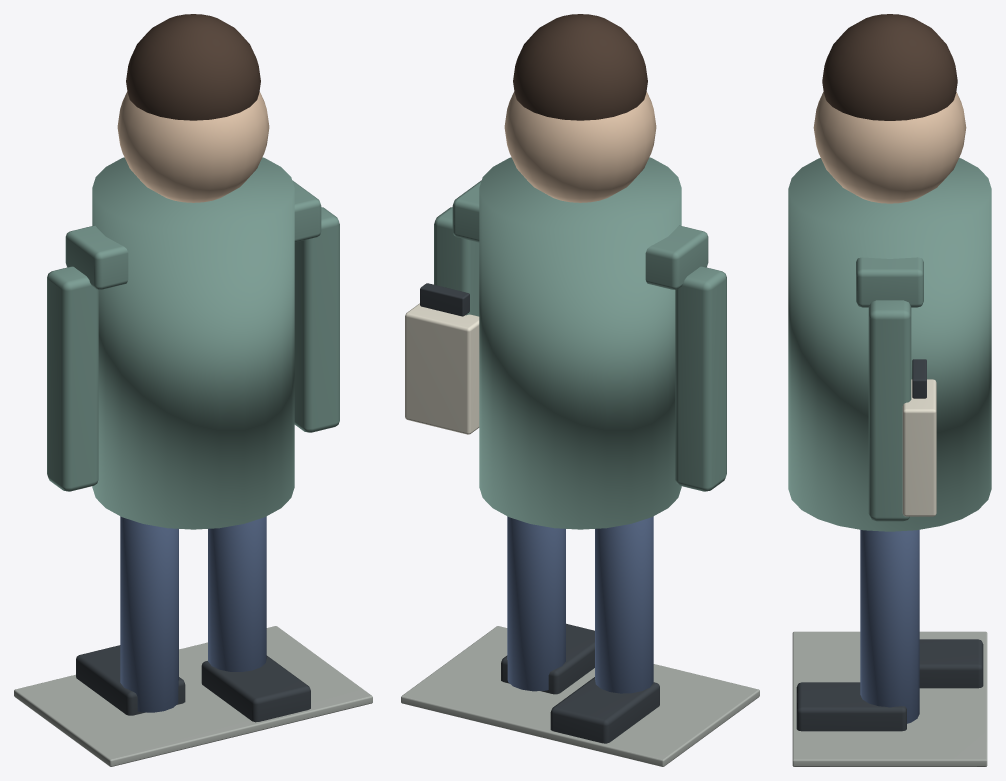
Rendered from customer_placeholder.glb.
3 views of the same model, side by side, from view 1: azimuth 30°, elevation 25°; view 2: azimuth 150°, elevation 25°; view 3: azimuth 270°, elevation 25° (orthographic).
Parts seen in each view (by area): view 1: customer_placeholder_torso, customer_entry_shadow, customer_hair_cap, customer_placeholder_head, customer_left_arm, customer_left_leg, customer_right_arm, customer_right_leg, customer_right_shoe, customer_shoulder_line, customer_left_shoe; view 2: customer_placeholder_torso, customer_entry_shadow, customer_hair_cap, customer_placeholder_head, customer_left_arm, customer_left_leg, customer_right_leg, customer_carry_bag_hint, customer_left_shoe, customer_shoulder_line, customer_right_arm, customer_right_shoe (+1 smaller); view 3: customer_placeholder_torso, customer_entry_shadow, customer_hair_cap, customer_placeholder_head, customer_right_leg, customer_right_arm, customer_right_shoe, customer_carry_bag_hint, customer_left_shoe, customer_shoulder_line, customer_bag_handle.
Part boxes in pixels (bbox=[...]): customer_placeholder_torso: bbox=[92, 157, 294, 529]; customer_entry_shadow: bbox=[14, 626, 372, 766]; customer_hair_cap: bbox=[126, 14, 260, 120]; customer_placeholder_head: bbox=[117, 92, 269, 202]; customer_left_arm: bbox=[47, 266, 98, 491]; customer_left_leg: bbox=[120, 516, 178, 712]; customer_right_arm: bbox=[294, 207, 339, 432]; customer_right_leg: bbox=[208, 516, 266, 671]; customer_right_shoe: bbox=[201, 655, 310, 722]; customer_shoulder_line: bbox=[65, 180, 321, 289]; customer_left_shoe: bbox=[76, 645, 185, 715]; customer_placeholder_torso: bbox=[479, 157, 681, 529]; customer_entry_shadow: bbox=[401, 626, 759, 766]; customer_hair_cap: bbox=[513, 14, 647, 120]; customer_placeholder_head: bbox=[504, 92, 656, 202]; customer_left_arm: bbox=[675, 266, 726, 491]; customer_left_leg: bbox=[595, 516, 653, 693]; customer_right_leg: bbox=[507, 516, 565, 691]; customer_carry_bag_hint: bbox=[405, 303, 479, 434]; customer_left_shoe: bbox=[550, 677, 659, 743]; customer_shoulder_line: bbox=[452, 180, 708, 289]; customer_right_arm: bbox=[434, 207, 479, 316]; customer_right_shoe: bbox=[501, 623, 594, 694]; customer_placeholder_torso: bbox=[788, 158, 991, 531]; customer_entry_shadow: bbox=[792, 631, 987, 766]; customer_hair_cap: bbox=[822, 14, 957, 120]; customer_placeholder_head: bbox=[813, 92, 966, 203]; customer_right_leg: bbox=[860, 529, 919, 723]; customer_right_arm: bbox=[868, 300, 911, 521]; customer_right_shoe: bbox=[796, 682, 906, 731]; customer_carry_bag_hint: bbox=[902, 379, 936, 516]; customer_left_shoe: bbox=[919, 639, 983, 688]; customer_shoulder_line: bbox=[856, 257, 923, 307]; customer_bag_handle: bbox=[912, 359, 926, 398].
Size of the model in its own units: 0.8 by 1.78 by 0.48.
